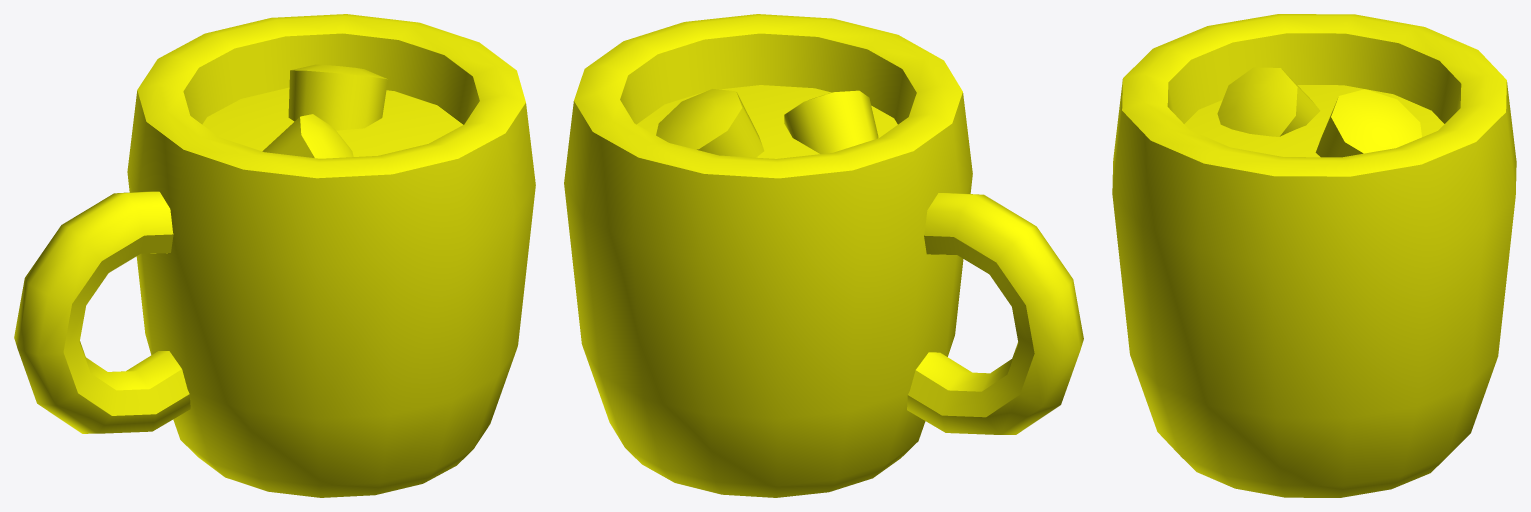
File: kaykit-hot-chocolate.glb
3 views of the same model, side by side, from view 1: azimuth 30°, elevation 25°; view 2: azimuth 150°, elevation 25°; view 3: azimuth 270°, elevation 25° (orthographic).
Visible parts, largest first — view 1: hot_chocolate; view 2: hot_chocolate; view 3: hot_chocolate.
Boxes of the visible parts, <box> form: hot_chocolate: <box>14,14,535,497</box>; hot_chocolate: <box>564,14,1083,497</box>; hot_chocolate: <box>1112,14,1516,497</box>.
Bounding box in the file's own units: 0.6234 × 0.4299 × 0.4459.
